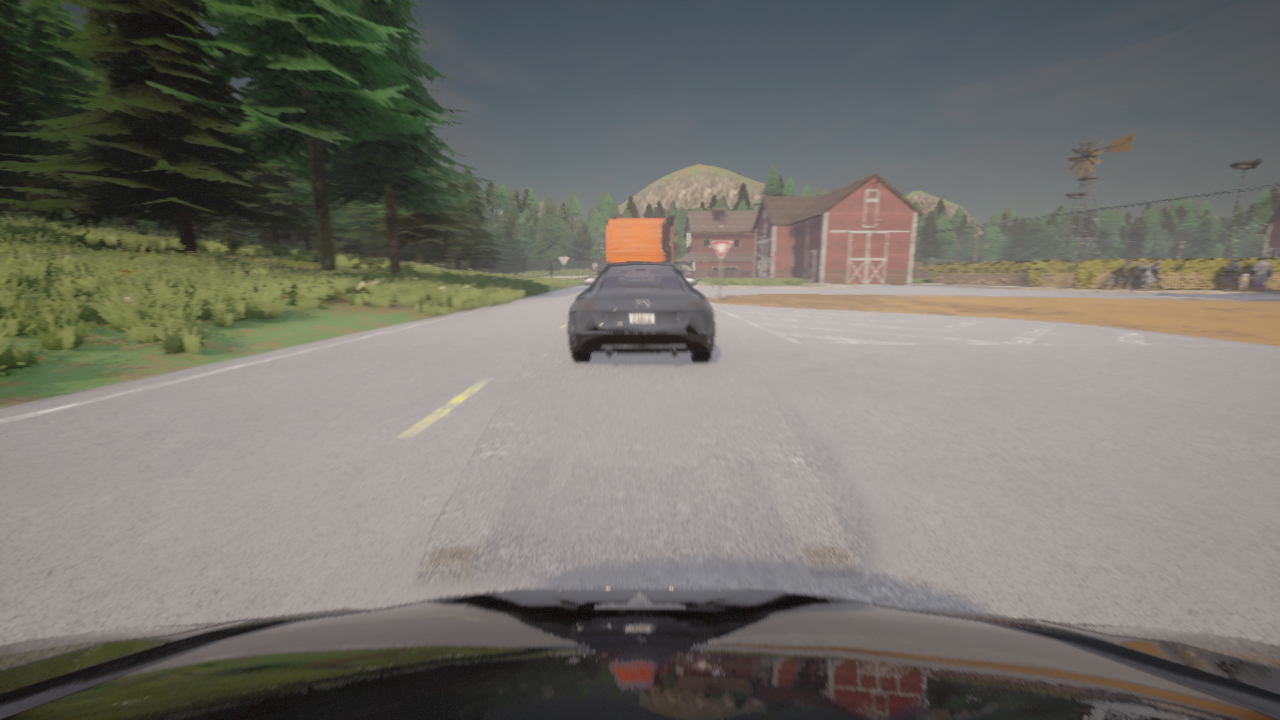cyclist: (0, 588, 1279, 719), (568, 263, 714, 361), (596, 216, 684, 277)
pedestrian: (1252, 260, 1271, 291), (1224, 260, 1239, 290), (1147, 260, 1162, 289), (1116, 260, 1131, 288), (1143, 261, 1155, 289), (1133, 261, 1144, 289), (1239, 270, 1249, 290), (1105, 272, 1115, 289)
